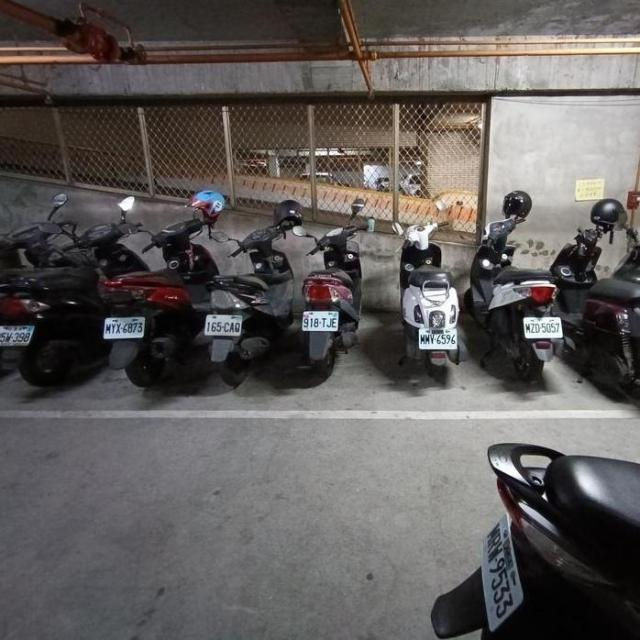W: (100, 310, 148, 343), (519, 311, 564, 343), (0, 316, 37, 352), (202, 309, 245, 339), (416, 325, 458, 352), (300, 306, 339, 334)
